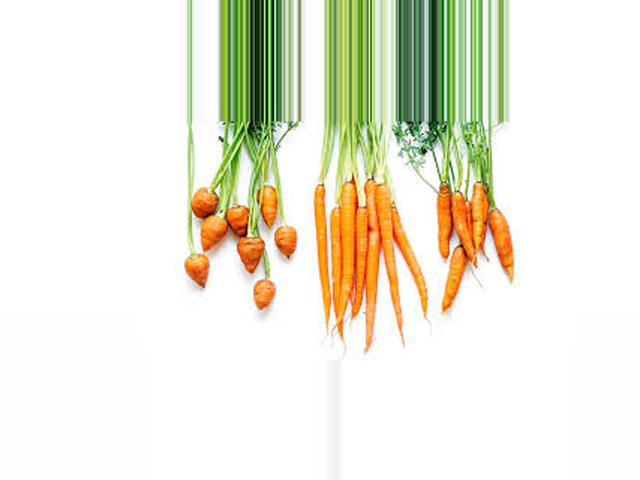carrot: (183, 252, 217, 294)
